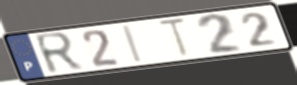2: (196, 12, 246, 57), (82, 28, 122, 69), (240, 10, 279, 49)
I: (122, 24, 147, 65)
R: (31, 30, 87, 77)
T: (155, 16, 192, 60)
